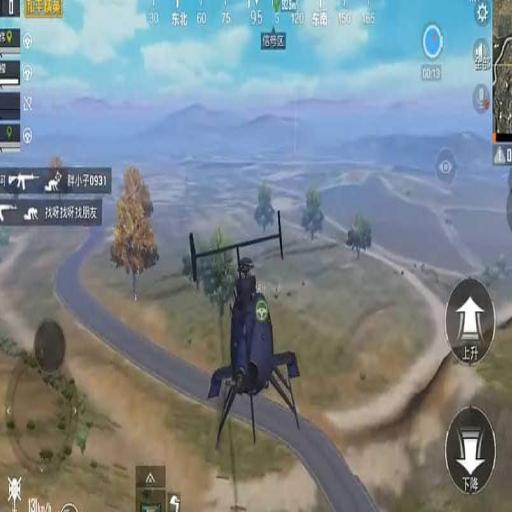helicopter: (185, 200, 304, 457)
